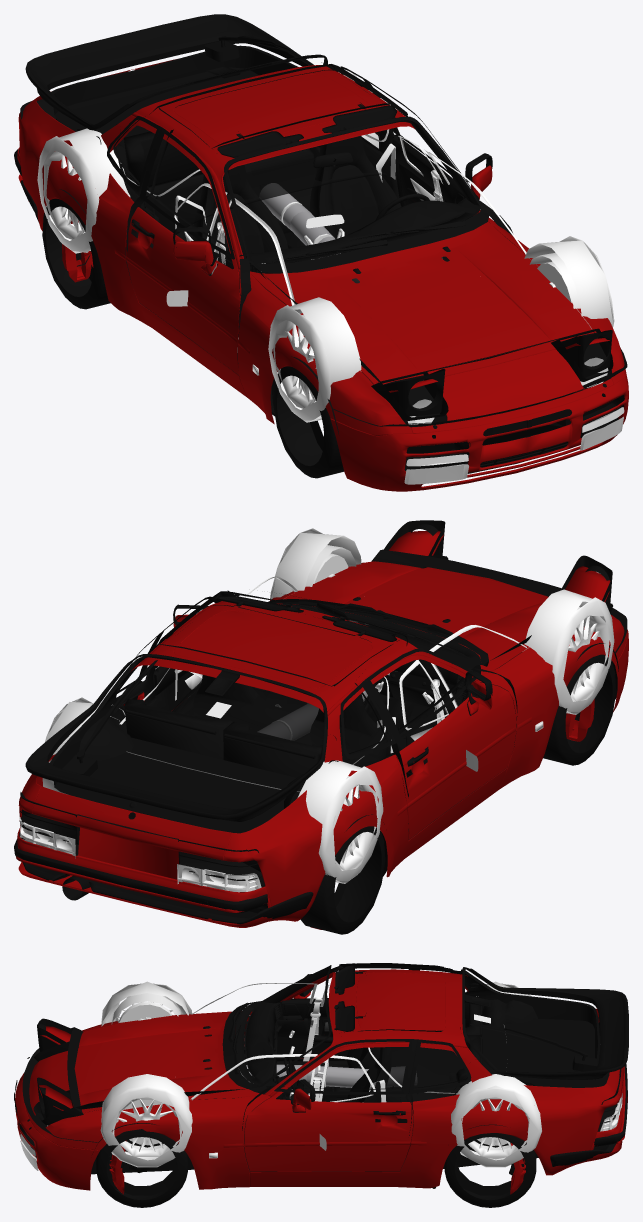
Rendered from car.glb.
3 views of the same model, one above another, from view 1: azimuth 30°, elevation 25°; view 2: azimuth 150°, elevation 25°; view 3: azimuth 270°, elevation 25° (orthographic). The views are drawn at different scales.
Parts seen in each view (by area): view 1: Object_4, Object_8, Object_15, Object_16, Object_9, Object_14, Object_13, Object_5, Object_20, Object_3; view 2: Object_4, Object_8, Object_15, Object_9, Object_16, Object_14, Object_13, Object_5, Object_20, Object_2; view 3: Object_4, Object_8, Object_16, Object_9, Object_15, Object_14, Object_5, Object_20, Object_2, Object_13.
Boxes of the visible parts, x1,y1,x2,y2 form: Object_4: (17,59,628,491); Object_8: (14,14,627,478); Object_15: (46,71,613,422); Object_16: (37,70,614,422); Object_9: (141,158,456,337); Object_14: (44,145,581,408); Object_13: (19,131,624,484); Object_5: (127,129,526,352); Object_20: (259,183,359,282); Object_3: (166,214,344,306); Object_4: (16,531,628,929); Object_8: (14,520,627,934); Object_15: (42,532,605,883); Object_9: (172,620,507,776); Object_16: (47,528,614,883); Object_14: (110,545,609,870); Object_13: (19,702,543,892); Object_5: (119,576,528,792); Object_20: (258,673,389,740); Object_2: (313,553,580,634); Object_4: (15,969,627,1194); Object_8: (14,963,628,1207); Object_16: (101,983,541,1167); Object_9: (193,1019,463,1136); Object_15: (100,981,540,1160); Object_14: (111,993,529,1159); Object_5: (190,983,507,1102); Object_20: (240,1064,416,1087); Object_2: (118,1002,507,1145); Object_13: (20,1014,622,1170).
Size of the model in its own units: 245312 by 158952 by 543617.
